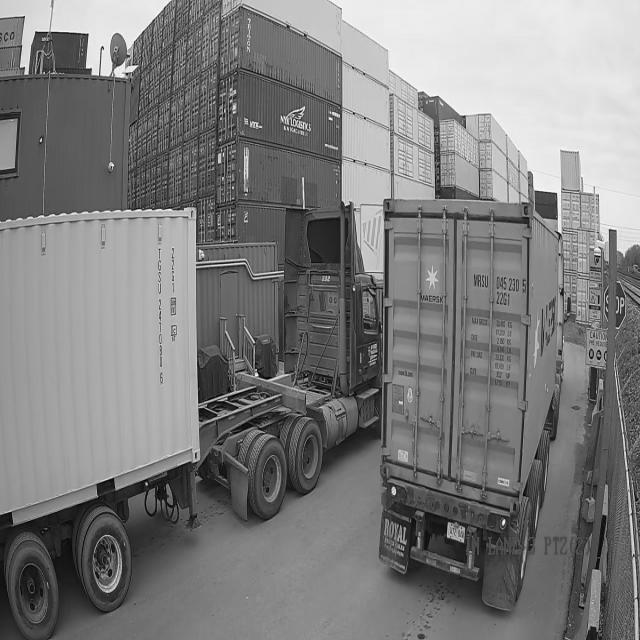container_company_logo: (415, 252, 446, 314)
container_number: (472, 270, 526, 312)
container_side_no: (153, 242, 169, 374)
license_plate: (449, 520, 466, 541)
truck_with_container: (0, 203, 382, 639), (380, 199, 564, 610)
